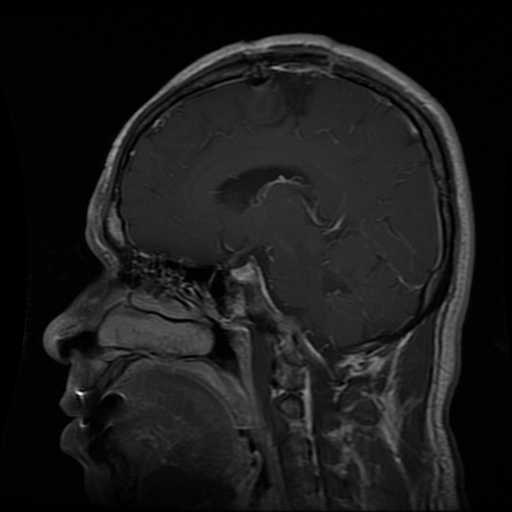glioma: (273, 81, 324, 136)
